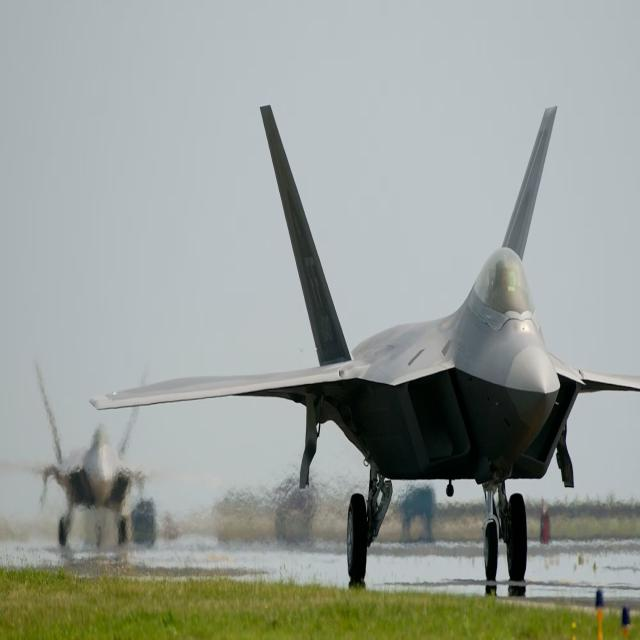F22: (77, 37, 635, 607)
